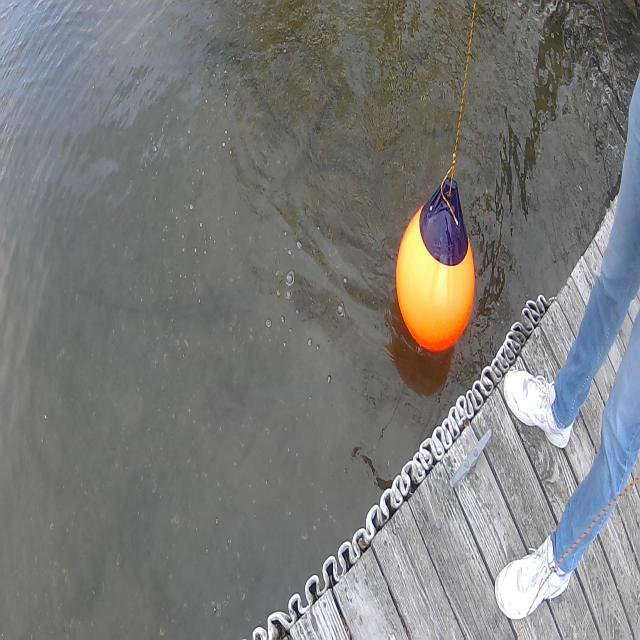Buoy: (395, 167, 477, 368)
